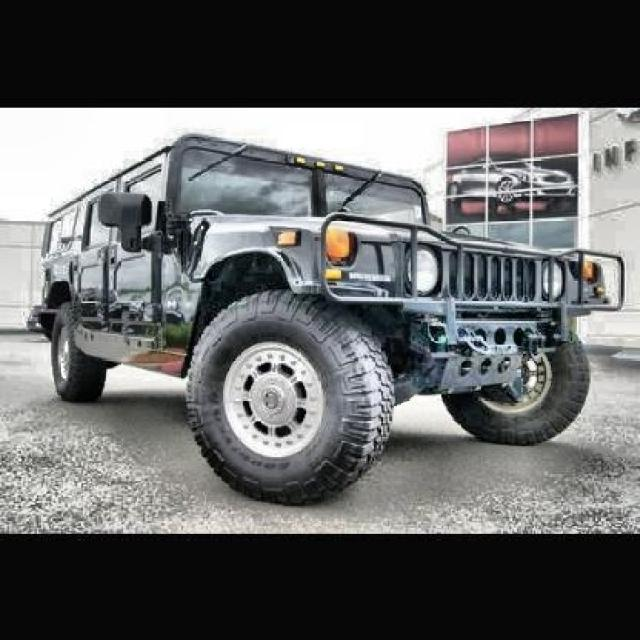black: (19, 150, 526, 440)
